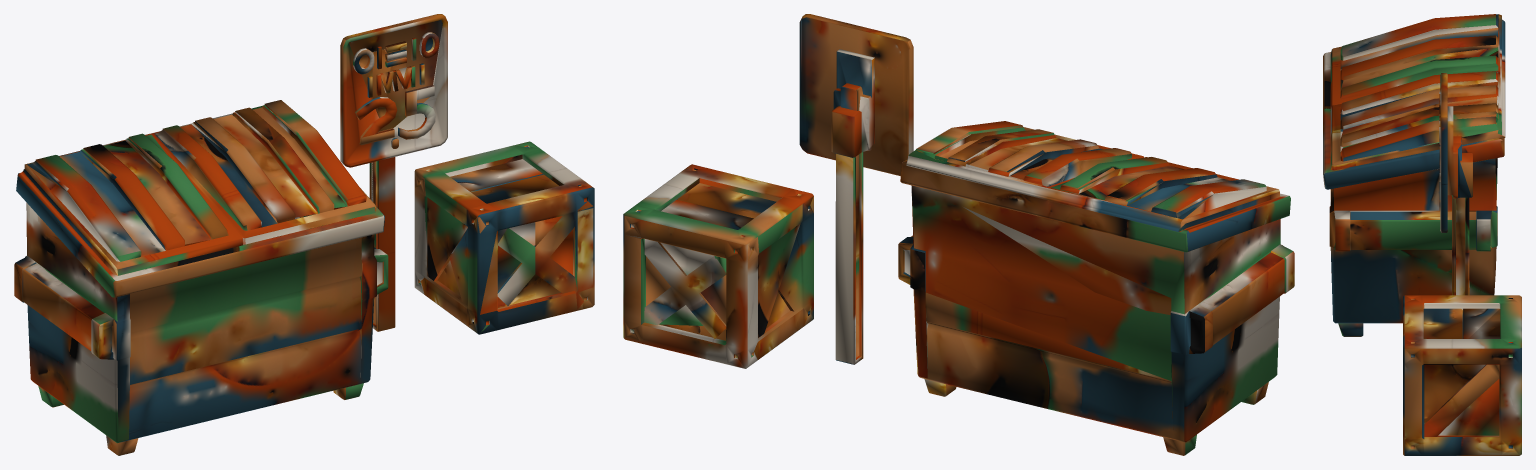
File: PropsModel.fbx
3 views of the same model, side by side, from view 1: azimuth 30°, elevation 25°; view 2: azimuth 150°, elevation 25°; view 3: azimuth 270°, elevation 25° (orthographic). The views are drawn at different scales.
Parts seen in each view (by area): view 1: texture_pbr_v128.003, texture_pbr_v128.001, texture_pbr_v128.004; view 2: texture_pbr_v128.003, texture_pbr_v128.001, texture_pbr_v128.004; view 3: texture_pbr_v128.003, texture_pbr_v128.001, texture_pbr_v128.004.
Boxes of the visible parts, bbox=[...] form: texture_pbr_v128.003: bbox=[14, 100, 388, 455]; texture_pbr_v128.001: bbox=[414, 141, 594, 334]; texture_pbr_v128.004: bbox=[340, 14, 447, 331]; texture_pbr_v128.003: bbox=[898, 121, 1294, 455]; texture_pbr_v128.001: bbox=[623, 164, 813, 368]; texture_pbr_v128.004: bbox=[799, 14, 913, 364]; texture_pbr_v128.003: bbox=[1323, 14, 1505, 336]; texture_pbr_v128.001: bbox=[1403, 295, 1521, 455]; texture_pbr_v128.004: bbox=[1439, 73, 1472, 295].
Size of the model in its own units: 190 by 105 by 66.88.
